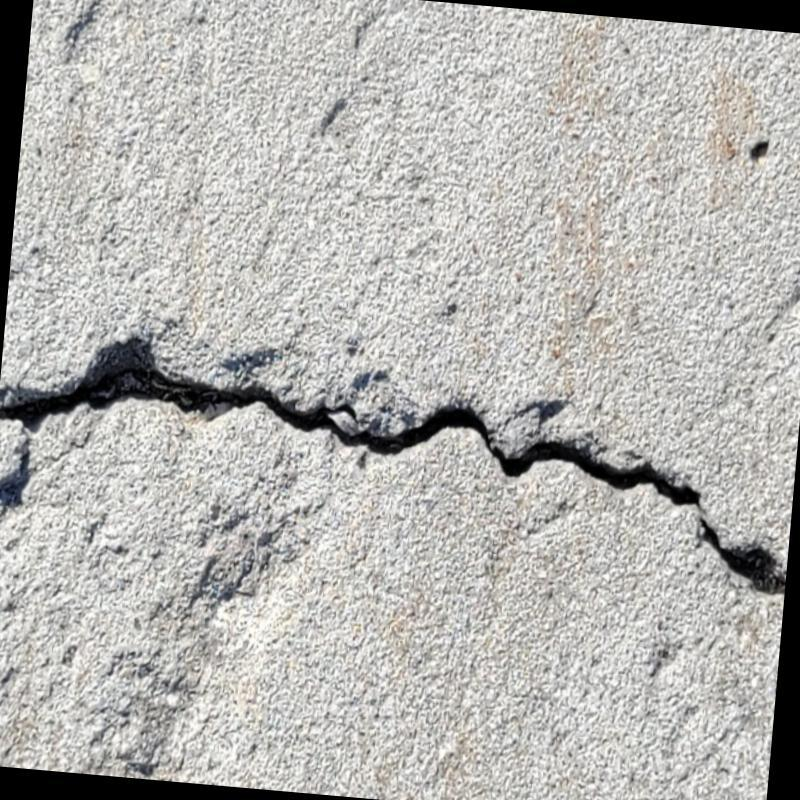pothole: (0, 351, 786, 607)
